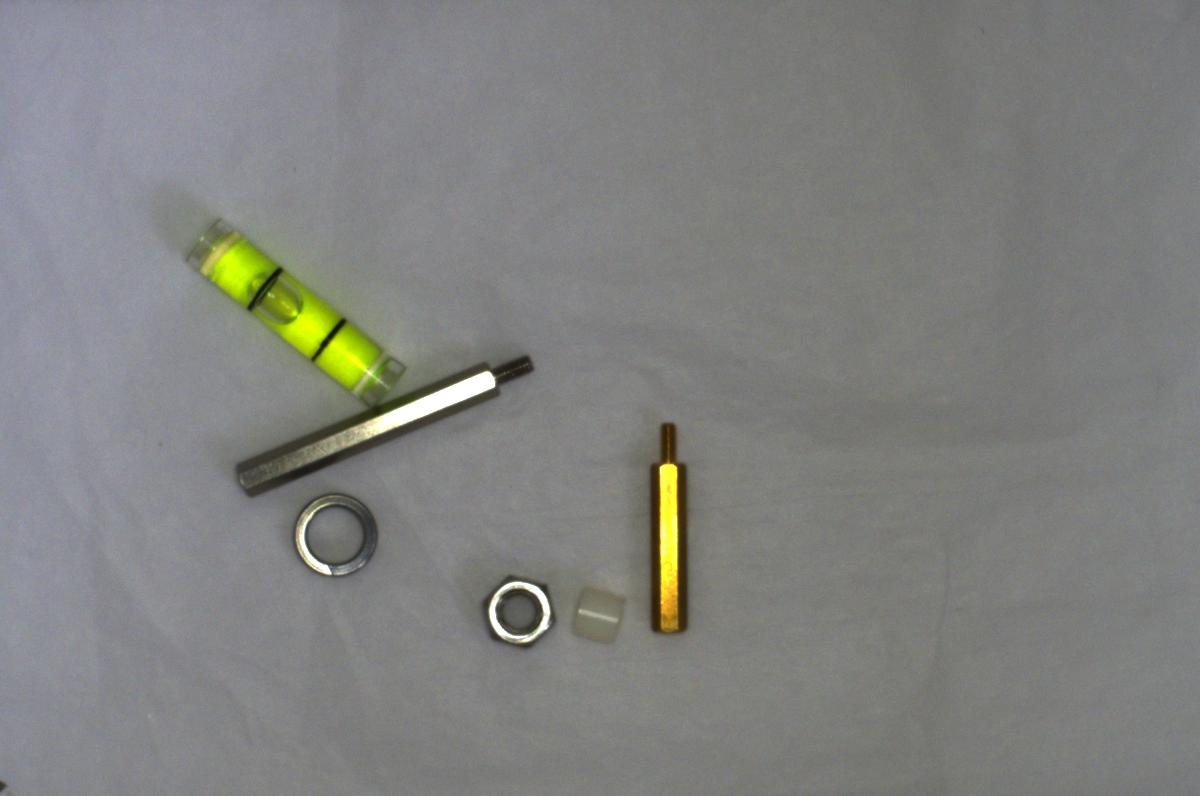Hexagon nut: (471, 569, 564, 649)
Hexagon pillar: (638, 419, 701, 630)
Hexagonal steel column: (234, 348, 541, 501)
Horizontal bubble: (179, 213, 394, 409)
Plastic cushion pillar: (559, 583, 631, 646)
Spring washer: (286, 487, 391, 587)
